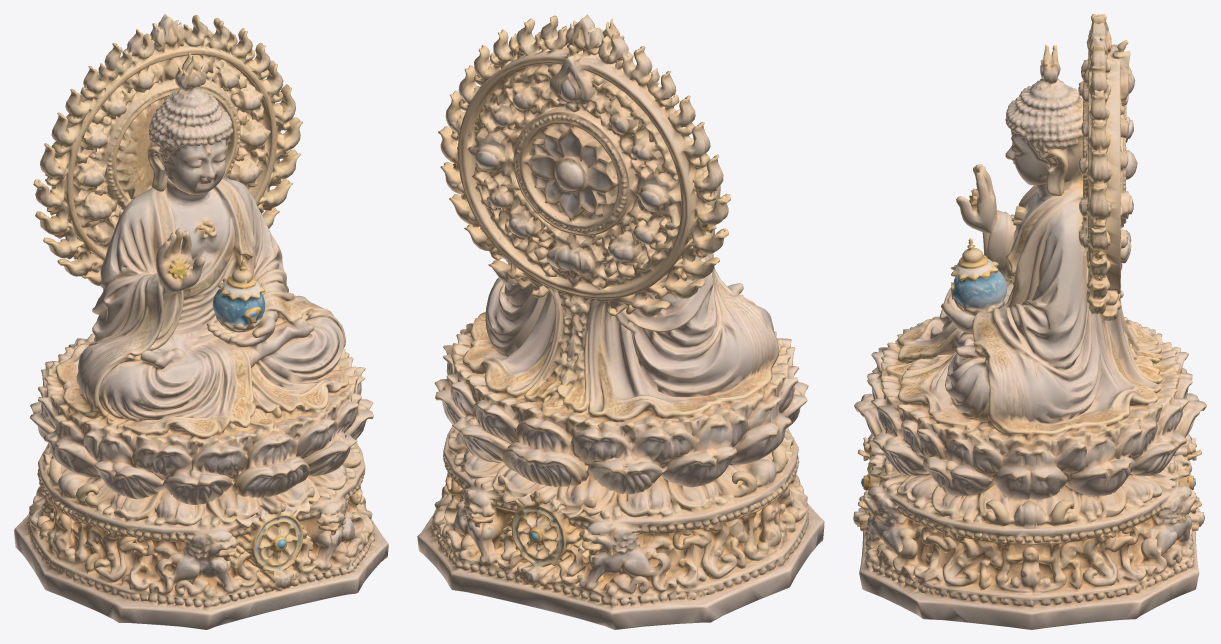
3 renders of one model, left to right at view 1: azimuth 30°, elevation 25°; view 2: azimuth 150°, elevation 25°; view 3: azimuth 270°, elevation 25°, orthographic. The views are drawn at different scales.
Parts seen in each view (by area): view 1: four-heavenly-kings-05; view 2: four-heavenly-kings-05; view 3: four-heavenly-kings-05.
Boxes of the visible parts, x1,y1,x2,y2 form: four-heavenly-kings-05: (14,14,388,629); four-heavenly-kings-05: (417,14,824,629); four-heavenly-kings-05: (853,14,1206,629).
Size of the model in its own units: 0.6397 by 1 by 0.6051.
Materials: 1 (1 with a texture image).
